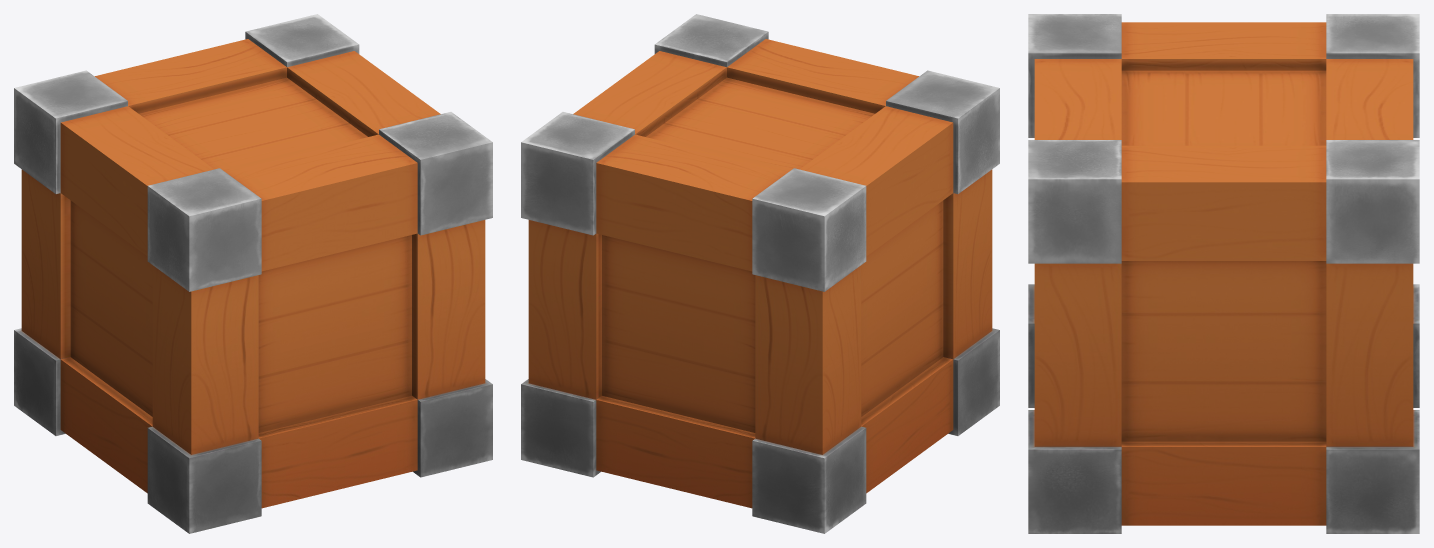
The picture shows the model from 3 angles, left to right: view 1: azimuth 30°, elevation 25°; view 2: azimuth 150°, elevation 25°; view 3: azimuth 270°, elevation 25°; orthographic projection. The views are drawn at different scales.
Parts seen in each view (by area): view 1: wooden; view 2: wooden; view 3: wooden.
Boxes of the visible parts, bbox=[...] form: wooden: bbox=[14, 14, 492, 533]; wooden: bbox=[521, 14, 999, 533]; wooden: bbox=[1028, 14, 1419, 533].
Bounding box in the file's own units: 2 × 2 × 2.
1 material, 1 textured.
